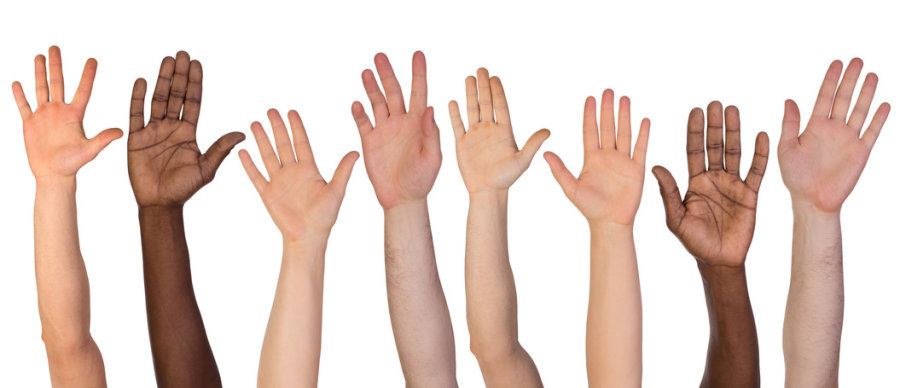hand: (653, 100, 769, 260), (128, 50, 245, 199), (777, 58, 890, 202), (238, 108, 359, 233), (544, 87, 650, 223), (11, 44, 122, 172), (351, 52, 443, 202), (447, 67, 551, 191)
